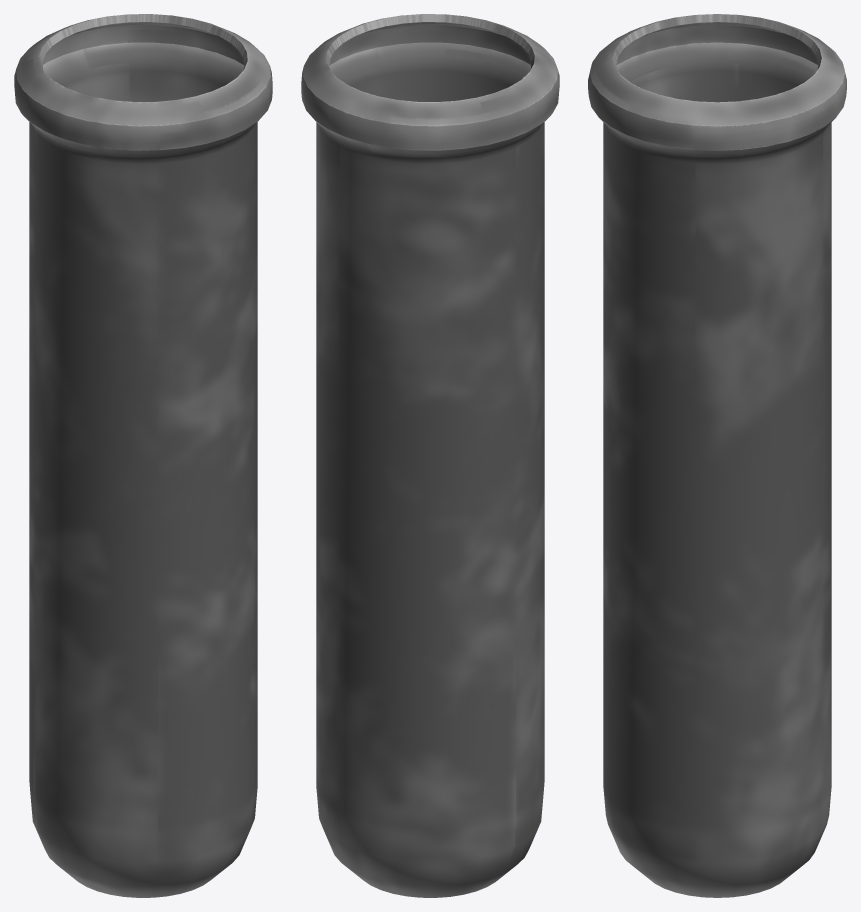
File: krov_decor.fbx
The picture shows the model from 3 angles, left to right: view 1: azimuth 30°, elevation 25°; view 2: azimuth 150°, elevation 25°; view 3: azimuth 270°, elevation 25°; orthographic projection.
Parts seen in each view (by area): view 1: kolba_decor; view 2: kolba_decor; view 3: kolba_decor.
Part boxes in pixels (x1,y1,x2,y2): kolba_decor: (14, 14, 272, 897); kolba_decor: (301, 14, 559, 897); kolba_decor: (588, 14, 846, 897).
Bounding box in the file's own units: 226 × 793 × 226.
